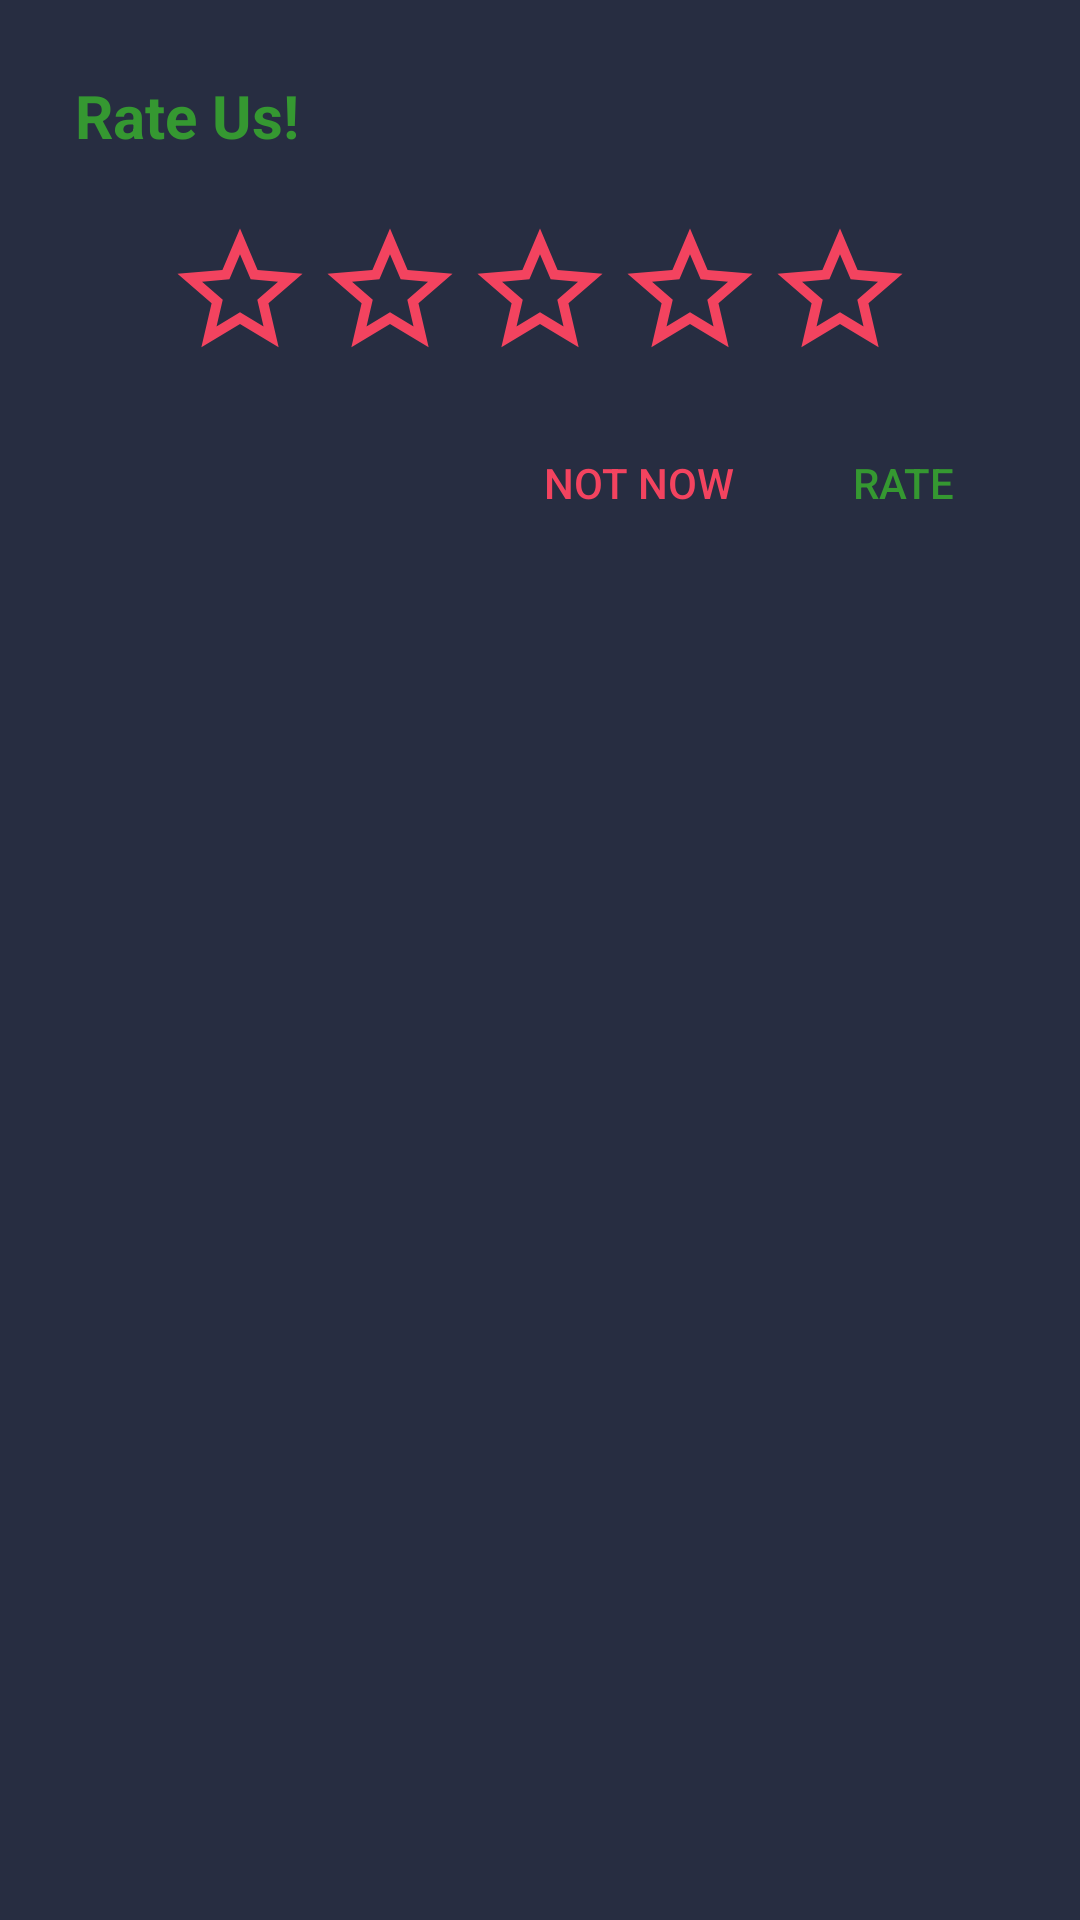

Named icons in this screenshot (1080 x 1920) and their bounding boxes, (x1, y1, x2, y2):
star border: (178, 229, 302, 347), (328, 229, 452, 347), (478, 229, 602, 347), (628, 229, 752, 347), (778, 229, 902, 347)
